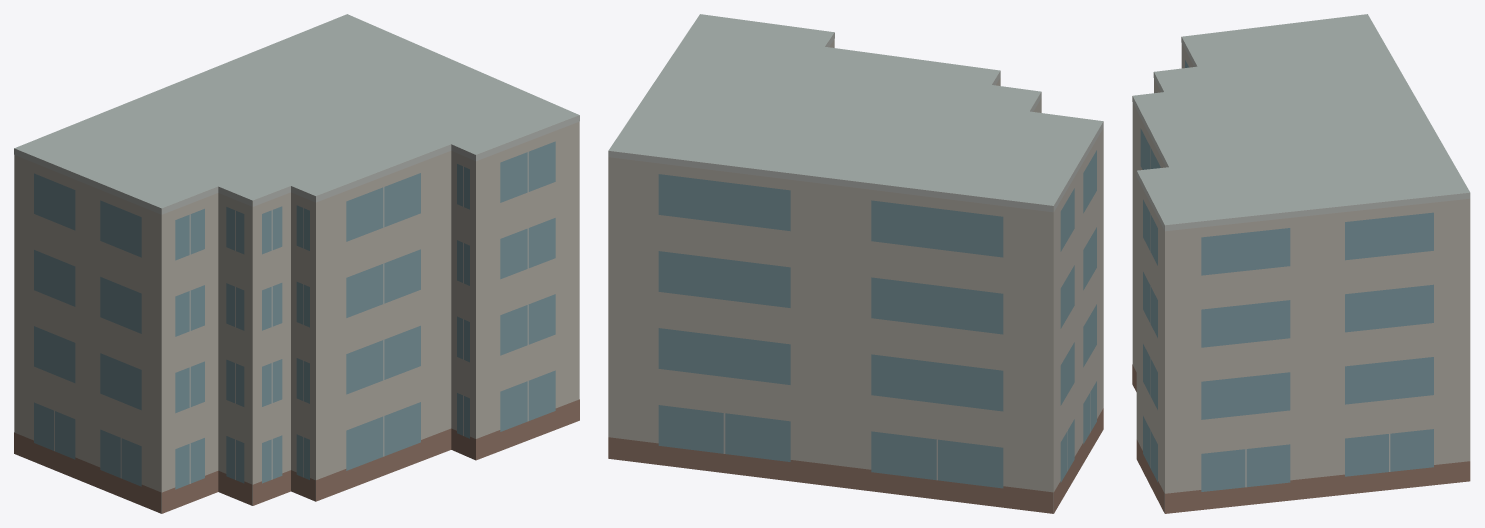
Rendered from survey-upis-32498780.glb.
3 views of the same model, side by side, from view 1: azimuth 30°, elevation 25°; view 2: azimuth 150°, elevation 25°; view 3: azimuth 270°, elevation 25° (orthographic). The views are drawn at different scales.
Visible parts, largest first — view 1: survey-upis-32498780.tmp; view 2: survey-upis-32498780.tmp; view 3: survey-upis-32498780.tmp.
Part boxes in pixels (<box>): survey-upis-32498780.tmp: <box>14,14,579,513</box>; survey-upis-32498780.tmp: <box>608,14,1103,513</box>; survey-upis-32498780.tmp: <box>1132,14,1470,513</box>.
Bounding box in the file's own units: 18.38 × 11.7 × 12.43.
